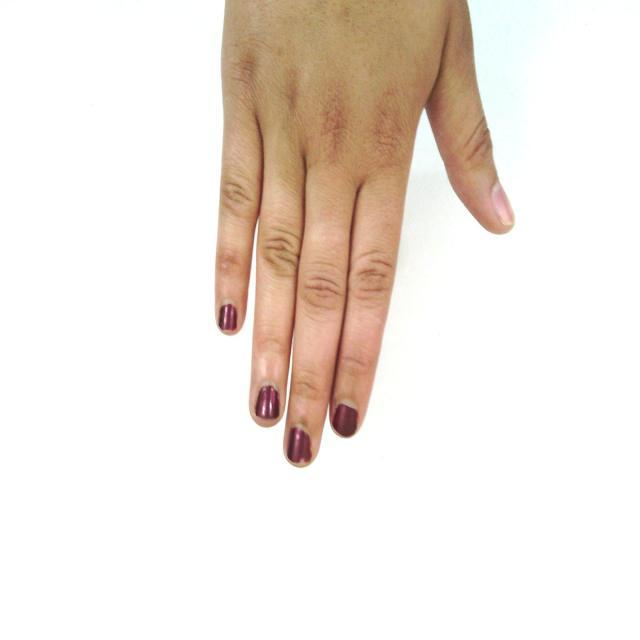Fingernail: (492, 181, 516, 224), (332, 404, 359, 437), (288, 427, 312, 463), (255, 385, 279, 419), (219, 304, 237, 331)
